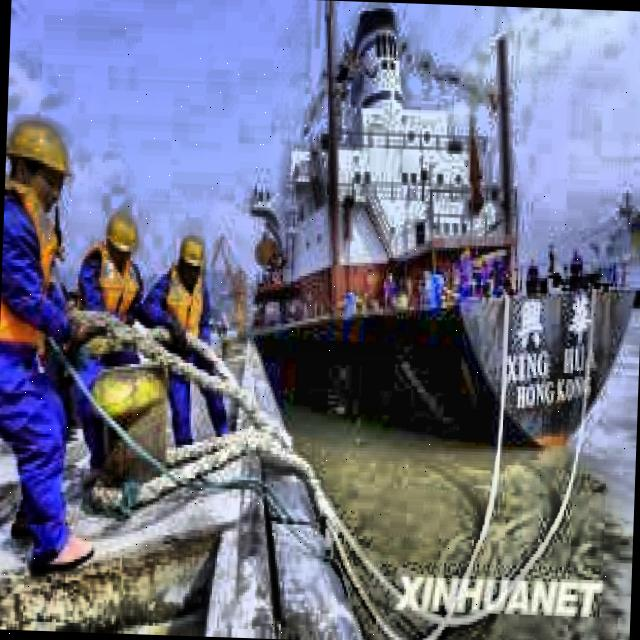helmet: (5, 114, 75, 218), (100, 210, 140, 276), (172, 228, 208, 290)
